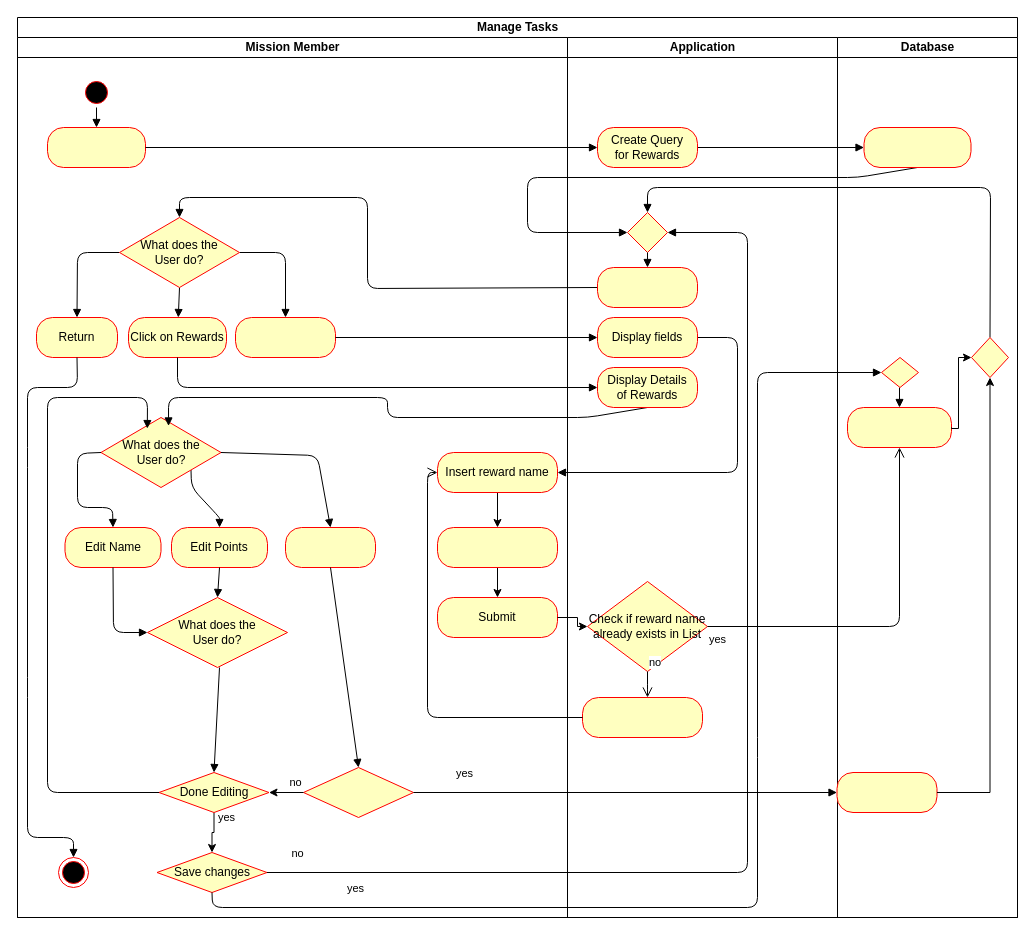
This 1035x935 diagram has some shape labels left out. The centre of each missing label's shape, as x and y in pixels:
"Confirm Deletion" goes at point (358, 792).
"Delete Reward from DB" goes at point (886, 792).
"Display Rewards in List" goes at point (647, 287).
"Insert Points" goes at point (497, 547).
"Persist Reward to Database" goes at point (899, 427).
"Press Create new Reward" goes at point (285, 337).
"Return User's Rewards" goes at point (917, 147).
"Select Delete" goes at point (330, 547).
"Select Manage Rewards" goes at point (96, 147).
"Show error message" goes at point (642, 717).
